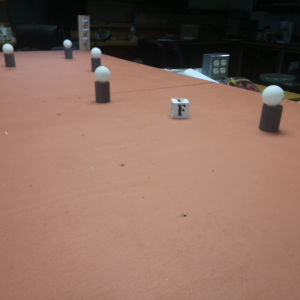blockF: (172, 97, 191, 119)
corner: (76, 14, 91, 52)
obstacle: (259, 85, 284, 134), (94, 65, 111, 104), (3, 42, 15, 67), (62, 37, 74, 61), (91, 48, 102, 71)
